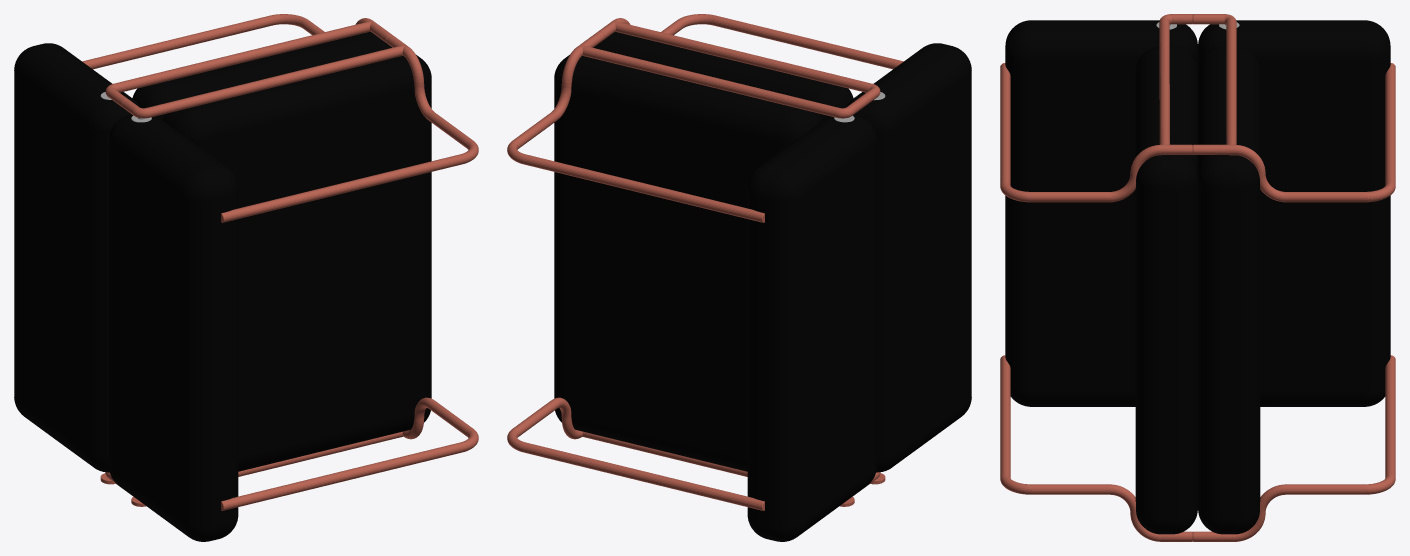
Rendered from 2025-50177-Mormor-Produktentwicklung-Praktikum-2025-2026-Fusion-260107-IS-V02-compressed.glb.
3 renders of one model, left to right at view 1: azimuth 30°, elevation 25°; view 2: azimuth 150°, elevation 25°; view 3: azimuth 270°, elevation 25°, orthographic.
Visible parts, largest first — view 1: empty_2; view 2: empty_2; view 3: empty_2.
Boxes of the visible parts, x1=… form: empty_2: x1=14, y1=14, x2=478, y2=541; empty_2: x1=507, y1=14, x2=971, y2=541; empty_2: x1=1000, y1=14, x2=1395, y2=541.
Size of the model in its own units: 700 by 850 by 760.
